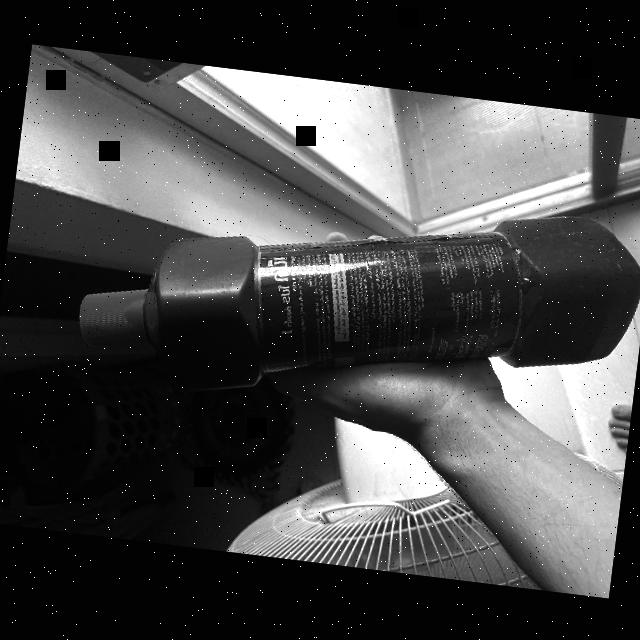toilet_cleaner: (63, 149, 640, 445)
